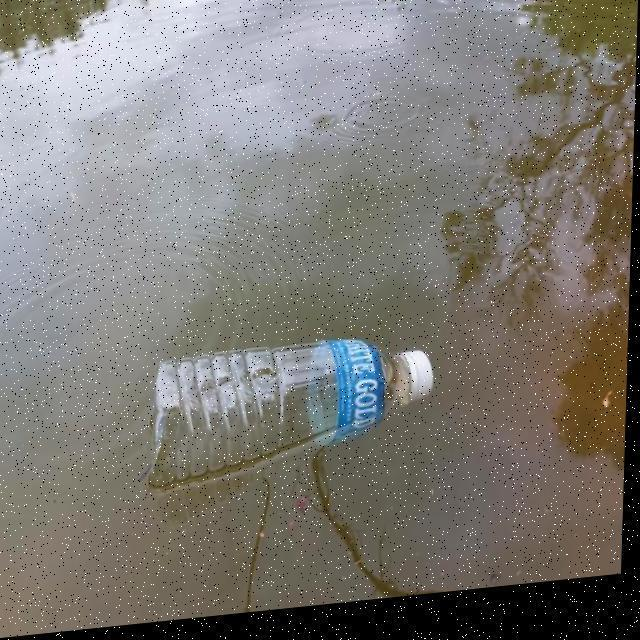Bottle: (139, 332, 443, 494)
